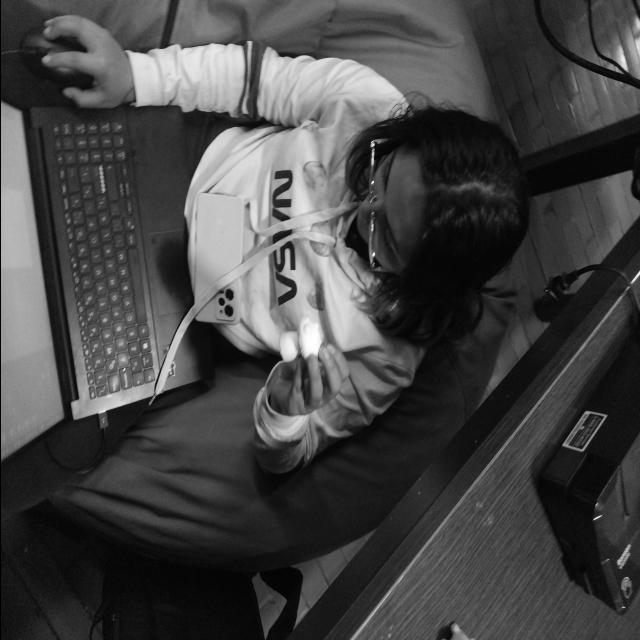Hongo: (274, 298, 326, 382)
